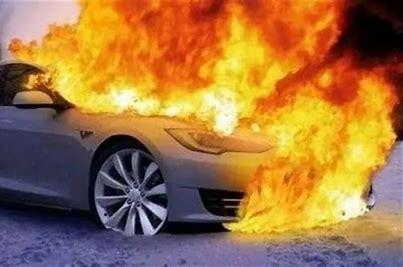smoke: (8, 0, 403, 134), (223, 82, 399, 235)
